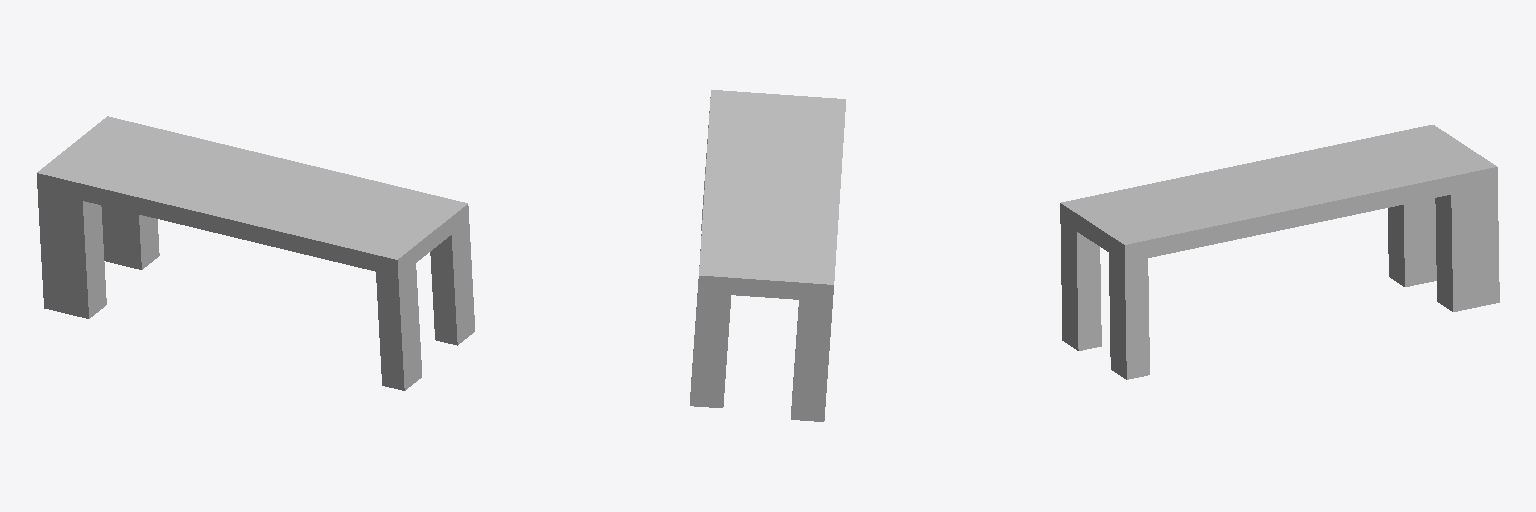
Rendered from mesa.obj.
The picture shows the model from 3 angles: view 1: azimuth 30°, elevation 25°; view 2: azimuth 150°, elevation 25°; view 3: azimuth 270°, elevation 25°; orthographic projection.
Visible parts, largest first — view 1: Cube_Cube.001; view 2: Cube_Cube.001; view 3: Cube_Cube.001.
Part boxes in pixels (x1,y1,x2,y2): Cube_Cube.001: (37,116,474,390); Cube_Cube.001: (690,90,845,421); Cube_Cube.001: (1060,125,1499,379).
Size of the model in its own units: 7.23 by 3.71 by 9.64.